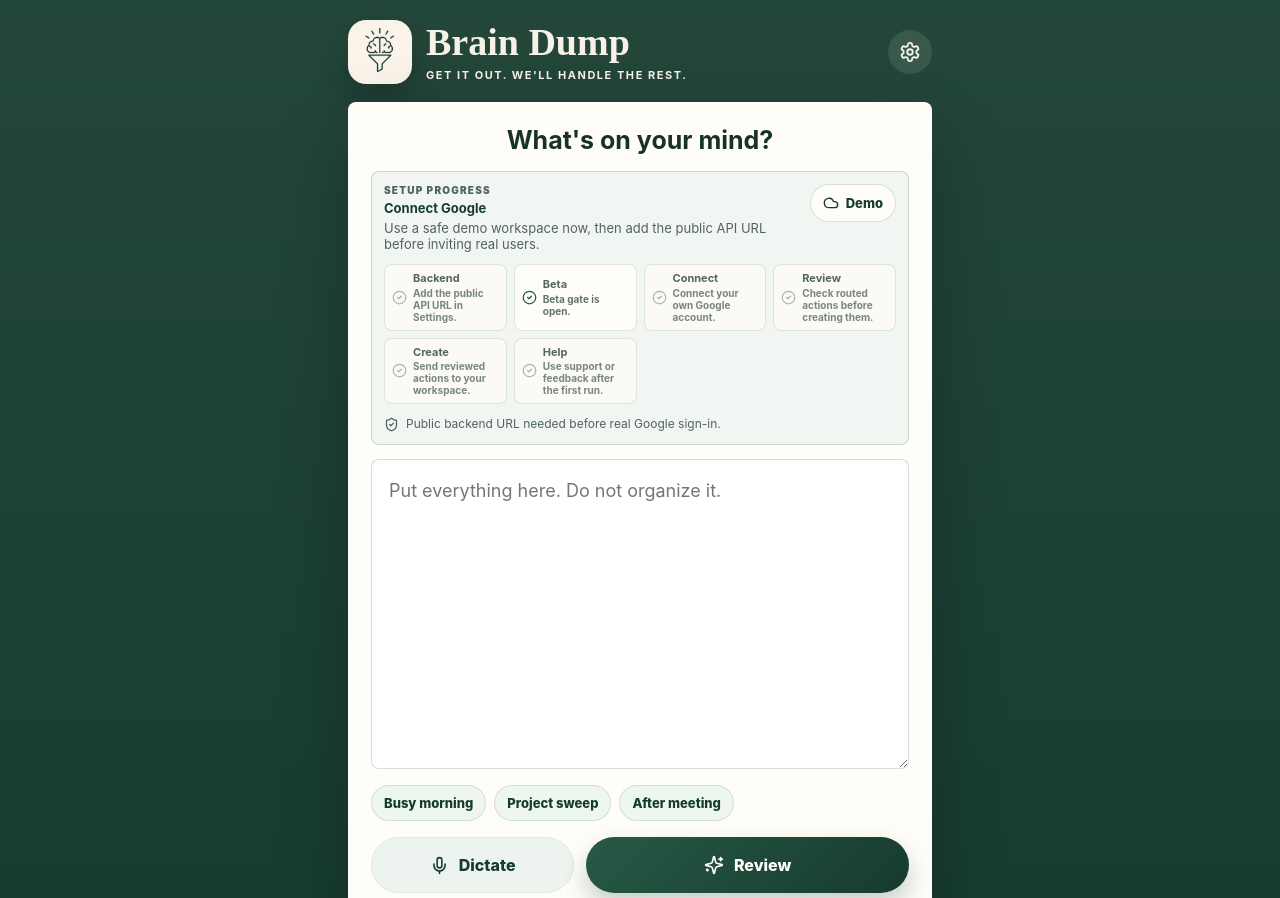
it: App routes › shows demo connection readiness for public mode without a backend URL
This screenshot has width=1280, height=898.
Expected: the text "Public backend URL needed before real Google sign-in." is shown, left=406, top=416, right=721, bottom=432
Click the button "Demo" at [853, 203], box left=810, top=184, right=896, bottom=222
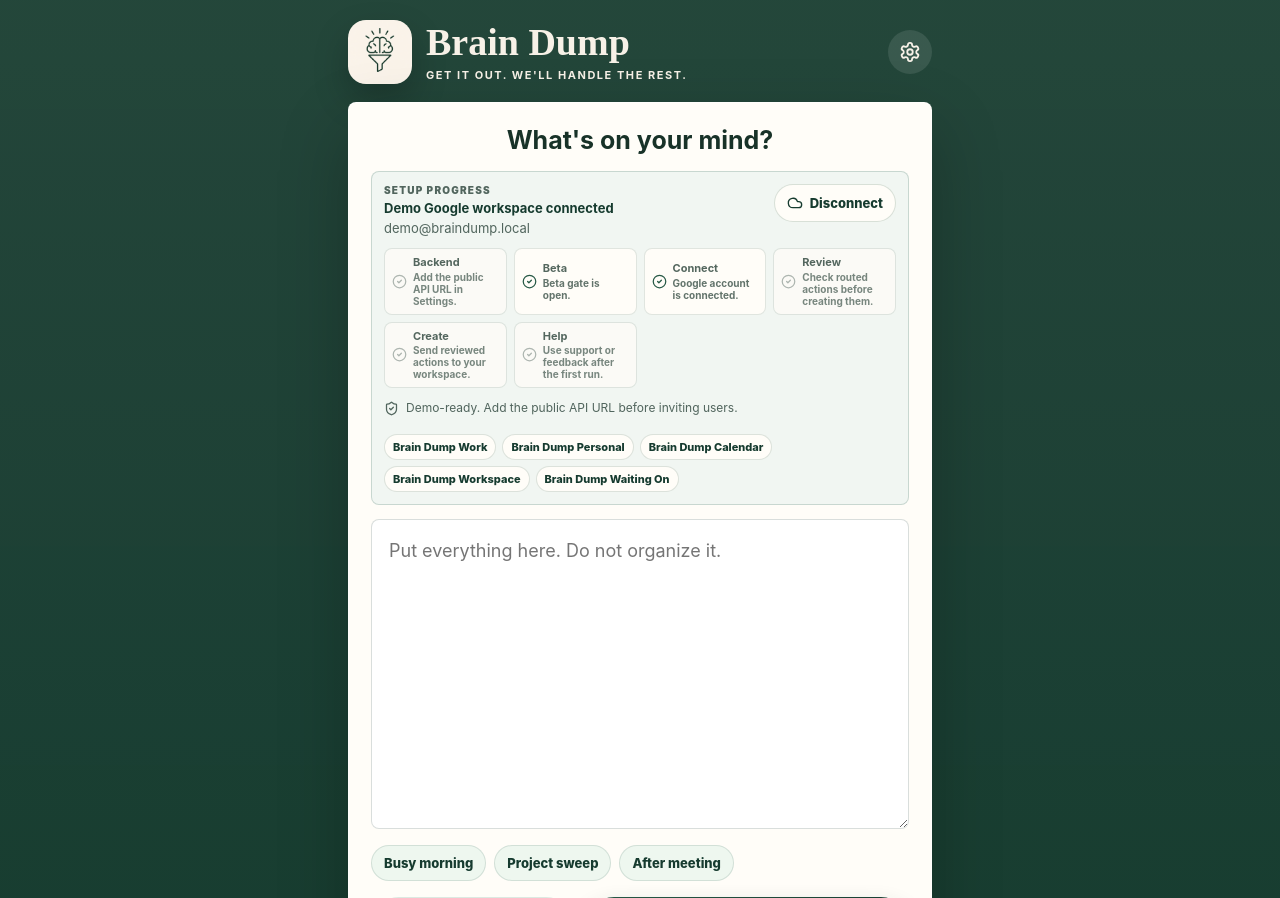
Now the text "Demo Google workspace connected" is shown, box left=384, top=200, right=614, bottom=216
Now the text "demo@braindump.local" is shown, box left=384, top=220, right=530, bottom=236
Now the text "Demo-ready. Add the public API URL before inviting users." is shown, box left=406, top=400, right=738, bottom=416
